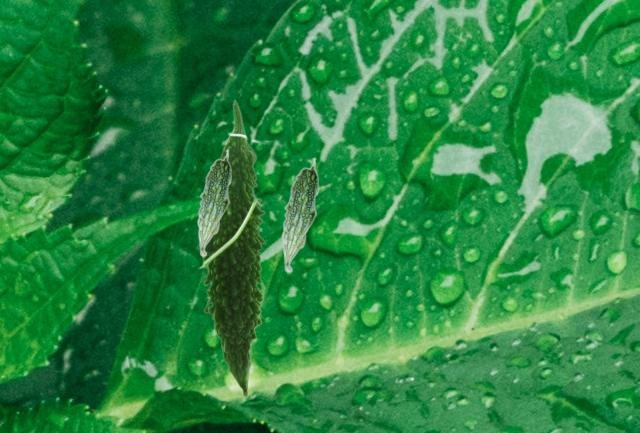ampalaya: (195, 99, 275, 398), (281, 157, 319, 274), (196, 149, 232, 258)
